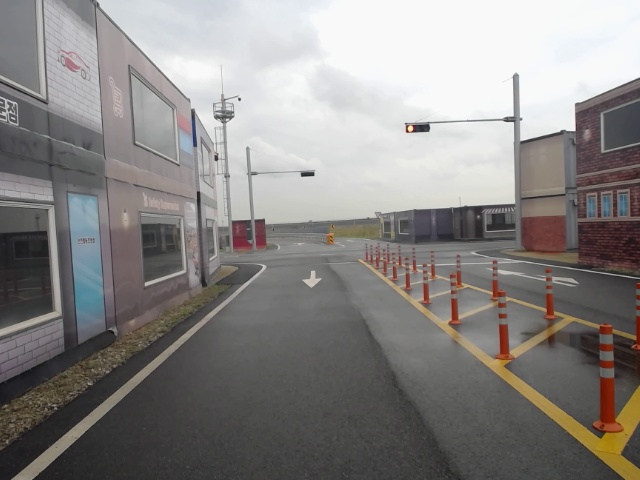red_3: (405, 122, 430, 134)
